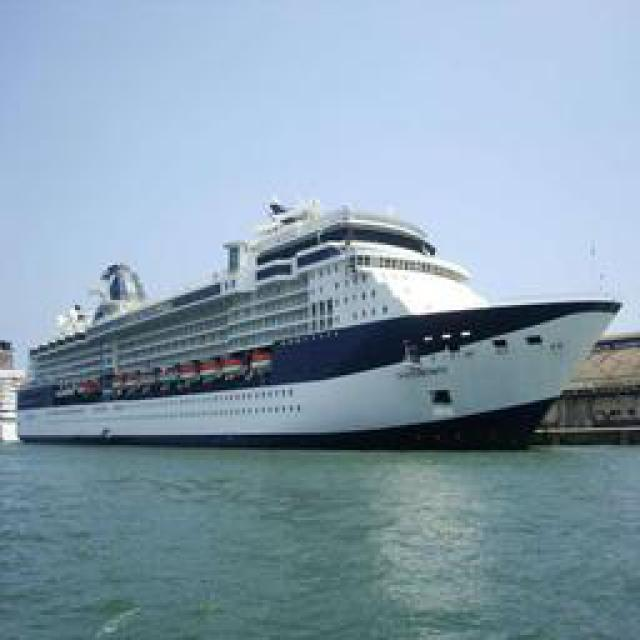Ship: (25, 193, 615, 448)
